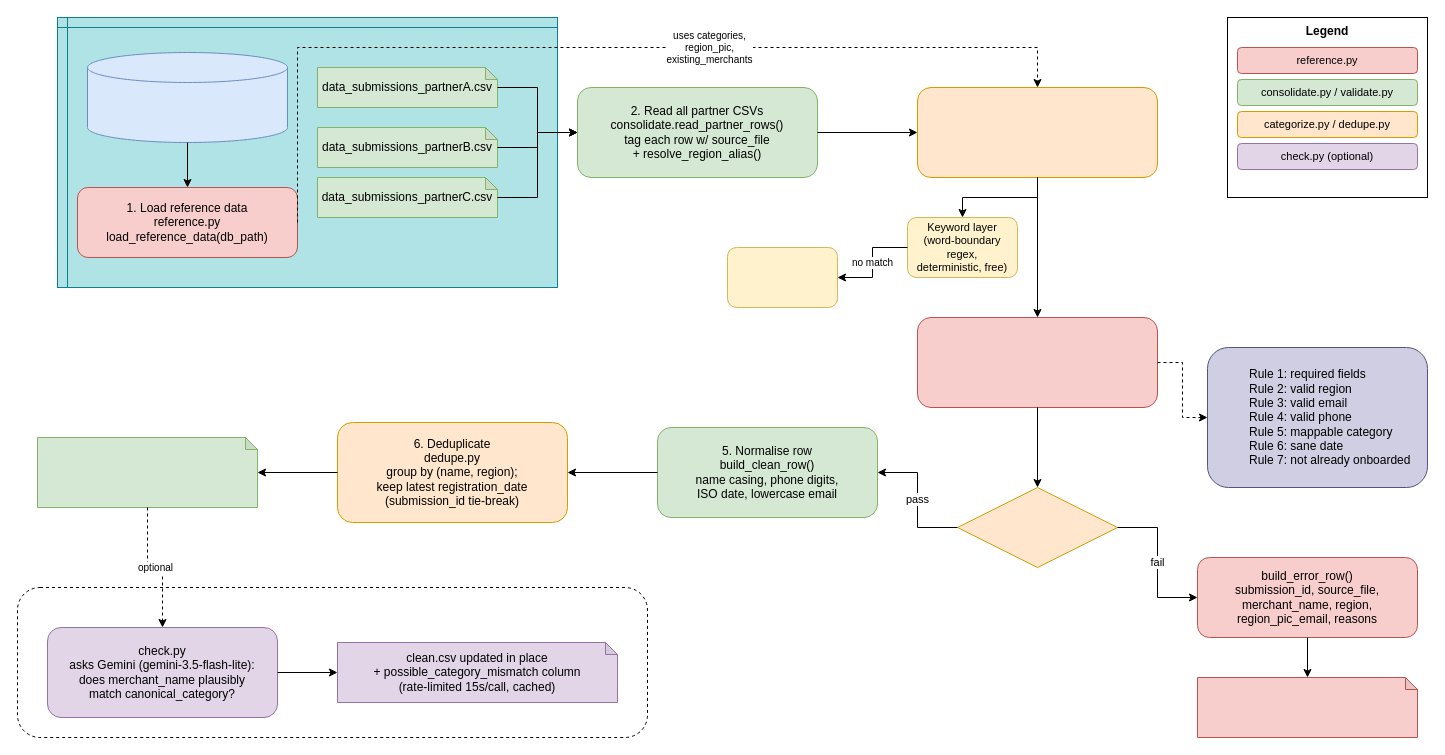
Some shapes in this 1445 by 755 pixel diagram are drawn without their labels. Here are the shapes that lost their labels. From the top down, the box of each, then its label:
(86, 52, 288, 142): reference.db (categories, region PIC, existing merchants)
(916, 86, 1158, 178): 3. Classify category categorize.py precategorize_unique_values()
(726, 246, 838, 308): LLM fallback (Gemini 2.5 flash, temp=0, cached)
(916, 316, 1158, 408): 4. Validate each row validate.py 7 business rules (collects ALL failing reasons)
(36, 436, 258, 508): output/clean.csv (one row per merchant)
(956, 486, 1118, 568): reasons empty?
(16, 586, 648, 738): OPTIONAL — standalone, not part of core pipeline
(1196, 676, 1418, 738): output/errors.csv
